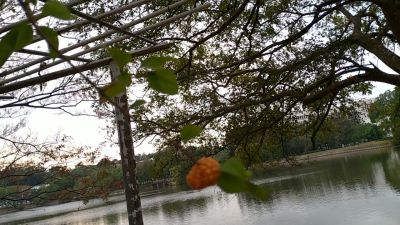eggs: (186, 156, 224, 191)
